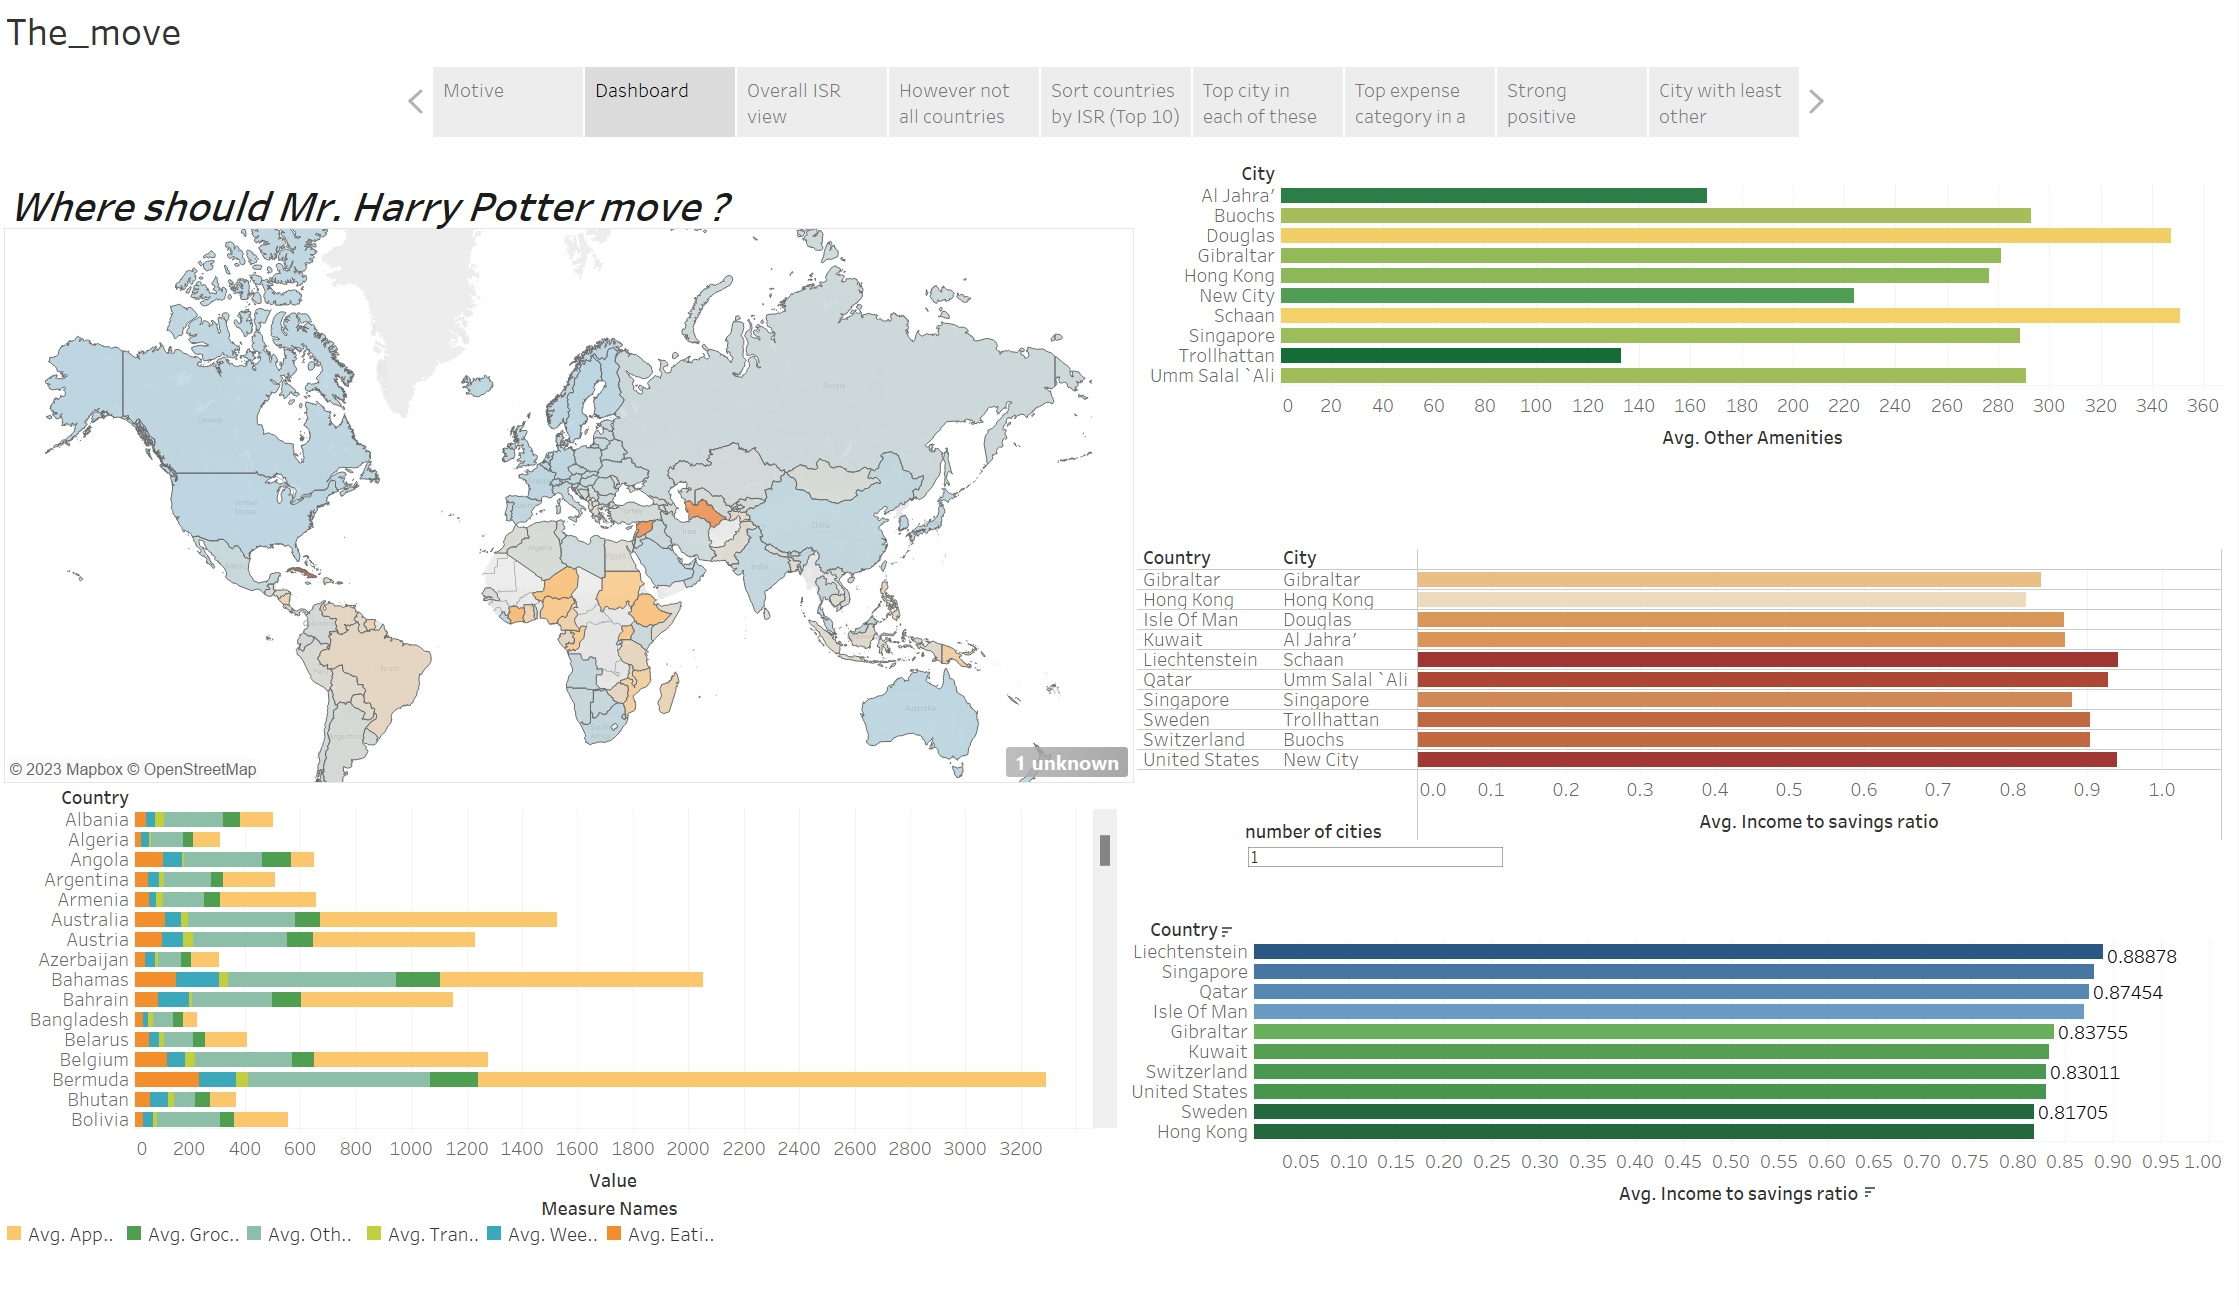

This screenshot's page, from the dashboard's own definition file:
{"tool":"tableau","page":{"name":"Dashboard","canvas":[1000,1000],"units":"permille","ordinal":0},"visuals":[{"type":"worksheet","title":"Influencing factor","mark":"Bar","rows":["city"],"cols":["Other_Amenities"],"box":[511,6.5,486.8,321.6]},{"type":"text","box":[0.7,9.1,548.3,63.8]},{"type":"worksheet","title":"ISR map","mark":"Multipolygon","box":[0.7,61.2,507.3,479.2]},{"type":"worksheet","title":"ISR_sorted_city","mark":"Automatic","rows":["country","city"],"cols":["Calculation_673006672704286720"],"box":[509.5,338.5,486.8,307.3]},{"type":"parameter","param":"[Parameters].[Parameter 6]","box":[557.8,570.3,117.1,67.7]},{"type":"worksheet","title":"ISR_sorted_country","mark":"Automatic","rows":["country"],"cols":["Calculation_673006672704286720"],"box":[498.5,658.9,498.5,317.7]},{"type":"legend","title":"Cost_of_living_stacked","param":"[federated.0xp6g2z0djtiiv19blb990n7mhji].[:Measure Names]","box":[0,895.8,545.4,87.2]}]}

Visuals, with their boxes on the dashboard's canvas, which has no fixed pixel size, in thousandths of its width and height (x1, y1, x2, y2). These are canvas units, not pixel positions in the 2239x1306 screenshot, which may show the page scaled, cropped or inside an application window:
"Influencing factor" worksheet (Bar marks): box=[511, 6, 998, 328]
text: box=[1, 9, 549, 73]
"ISR map" worksheet (Multipolygon marks): box=[1, 61, 508, 540]
"ISR_sorted_city" worksheet: box=[510, 338, 996, 646]
parameter: box=[558, 570, 675, 638]
"ISR_sorted_country" worksheet: box=[498, 659, 997, 977]
"Cost_of_living_stacked" legend: box=[0, 896, 545, 983]
